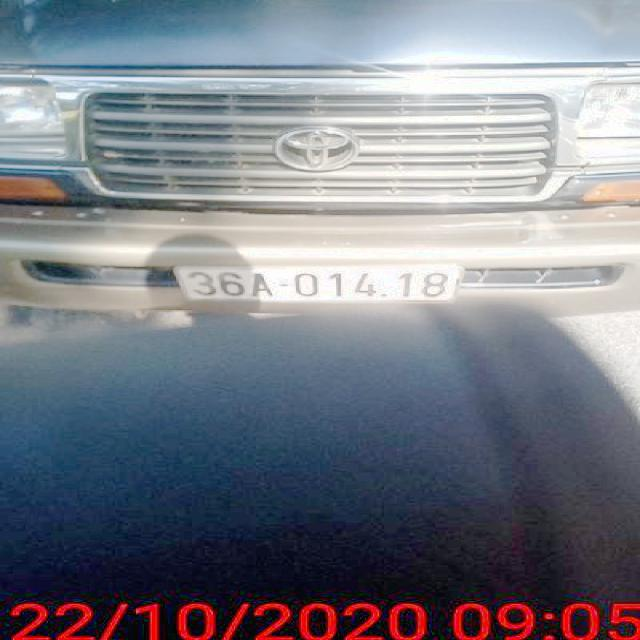license_plate: (180, 265, 461, 303)
